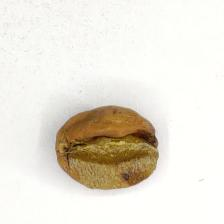NG: (68, 125, 156, 187)
